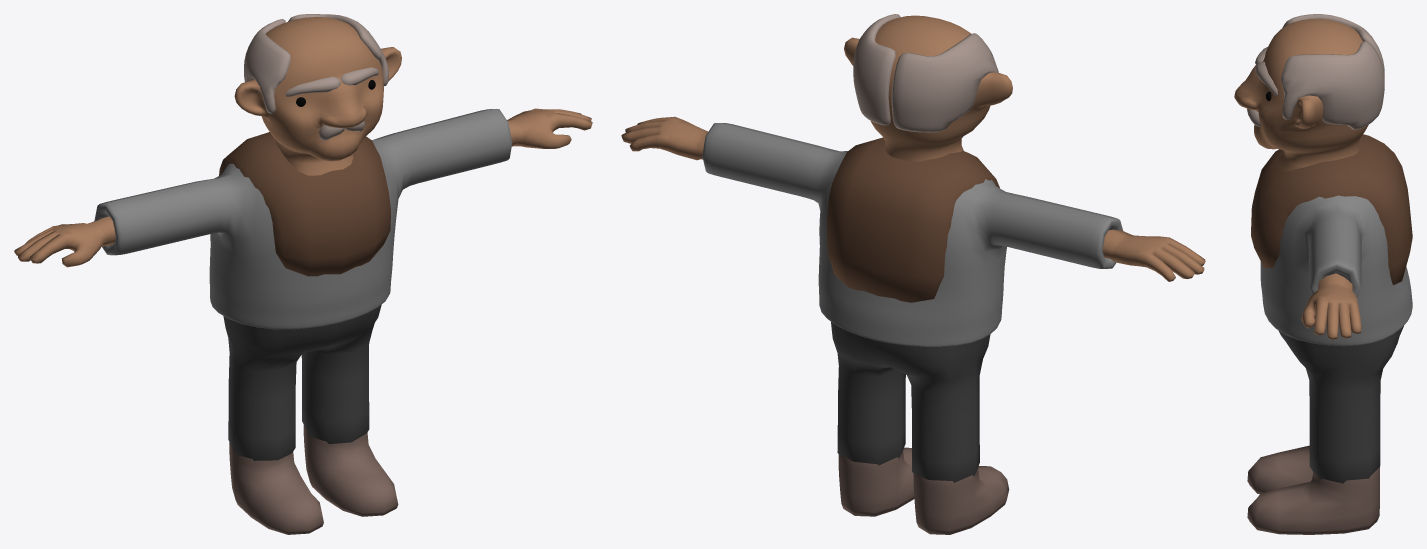
File: NPC_3_Male.fbx
3 renders of one model, left to right at view 1: azimuth 30°, elevation 25°; view 2: azimuth 150°, elevation 25°; view 3: azimuth 270°, elevation 25°, orthographic.
Parts seen in each view (by area): view 1: cuerpo.005, Cube.009, Plane.001, cabeza.008, pies.005, manos.005, cabeza.009, cejas.007; view 2: cuerpo.005, Plane.001, Cube.009, cabeza.009, pies.005, cabeza.008, manos.005; view 3: cuerpo.005, Cube.009, Plane.001, cabeza.008, pies.005, cabeza.009, manos.005, cejas.007.
Part boxes in pixels (bbox=[...]): cuerpo.005: bbox=[94, 109, 512, 329]; Cube.009: bbox=[223, 305, 381, 460]; Plane.001: bbox=[219, 132, 390, 276]; cabeza.008: bbox=[234, 17, 401, 175]; pies.005: bbox=[229, 425, 398, 534]; manos.005: bbox=[14, 108, 592, 267]; cabeza.009: bbox=[244, 14, 389, 113]; cejas.007: bbox=[285, 67, 378, 96]; cuerpo.005: bbox=[702, 123, 1122, 346]; Plane.001: bbox=[827, 137, 999, 302]; Cube.009: bbox=[831, 322, 990, 482]; cabeza.009: bbox=[853, 14, 998, 132]; pies.005: bbox=[838, 447, 1009, 534]; cabeza.008: bbox=[844, 15, 1012, 161]; manos.005: bbox=[621, 116, 1205, 281]; cuerpo.005: bbox=[1260, 195, 1412, 346]; Cube.009: bbox=[1278, 326, 1403, 483]; Plane.001: bbox=[1251, 134, 1412, 285]; cabeza.008: bbox=[1234, 18, 1368, 171]; pies.005: bbox=[1247, 445, 1379, 534]; cabeza.009: bbox=[1281, 14, 1384, 129]; manos.005: bbox=[1301, 273, 1361, 339]; cejas.007: bbox=[1255, 47, 1277, 95].
Bounding box in the file's own units: 1.87 × 1.48 × 0.5032.
